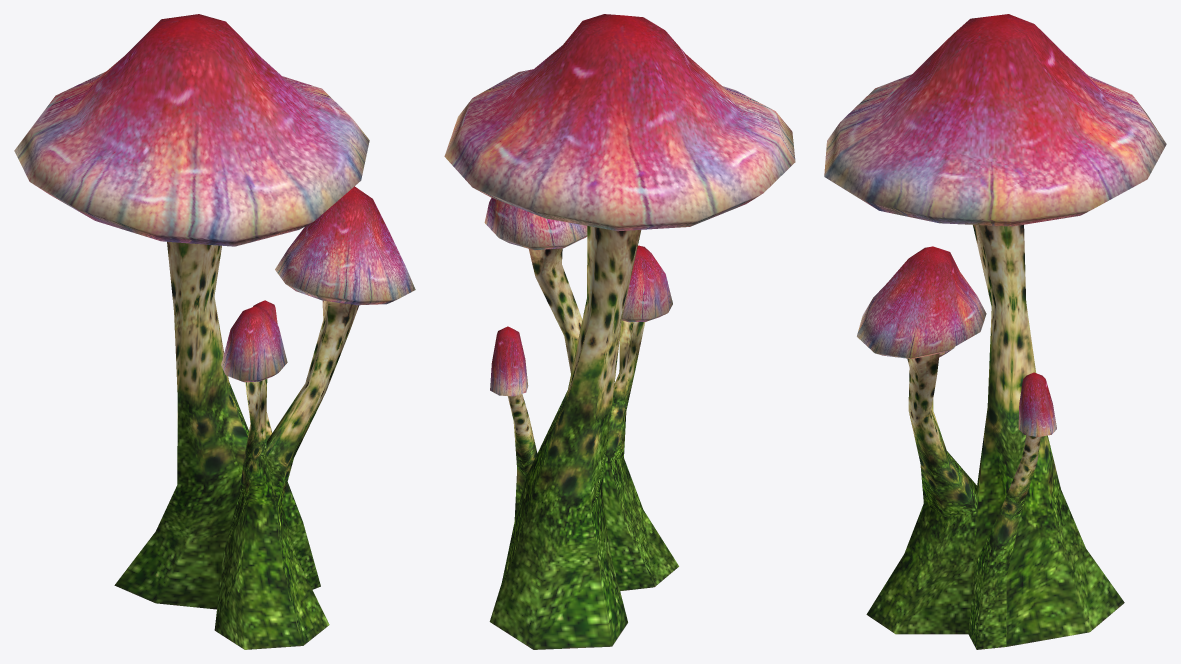
File: fo_s3_champignou_b.glb
3 renders of one model, left to right at view 1: azimuth 30°, elevation 25°; view 2: azimuth 150°, elevation 25°; view 3: azimuth 270°, elevation 25°, orthographic. The views are drawn at different scales.
Visible parts, largest first — view 1: Fo_S3_champignou_B; view 2: Fo_S3_champignou_B; view 3: Fo_S3_champignou_B.
Boxes of the visible parts, x1,y1,x2,y2 form: Fo_S3_champignou_B: (14, 14, 415, 649); Fo_S3_champignou_B: (444, 14, 795, 649); Fo_S3_champignou_B: (824, 14, 1166, 649).
Bounding box in the file's own units: 1.9 × 3.3 × 1.78.
Materials: 3 (3 with a texture image).
